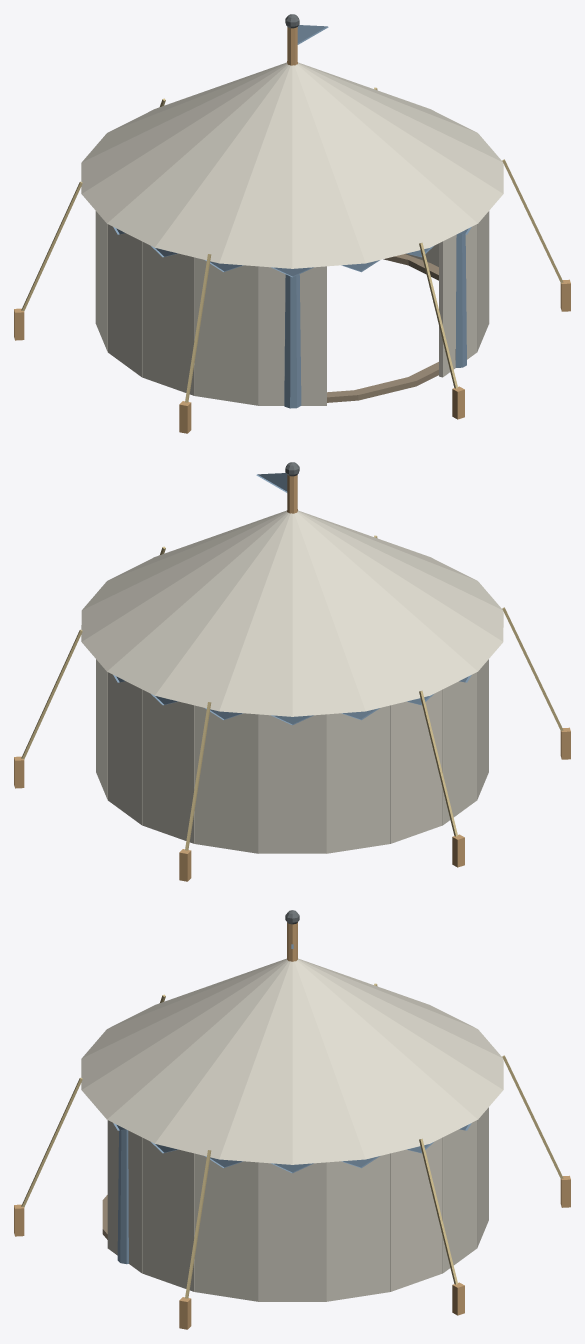
Rendered from pavilion-tent-large.glb.
The picture shows the model from 3 angles, top to bottom: view 1: azimuth 30°, elevation 25°; view 2: azimuth 150°, elevation 25°; view 3: azimuth 270°, elevation 25°; orthographic projection.
Parts seen in each view (by area): view 1: pavilion-tent-large; view 2: pavilion-tent-large; view 3: pavilion-tent-large.
Part boxes in pixels (<box>): pavilion-tent-large: <box>14,14,570,433</box>; pavilion-tent-large: <box>14,462,570,881</box>; pavilion-tent-large: <box>14,910,570,1329</box>.
Size of the model in its own units: 6.79 by 4.46 by 7.28.
